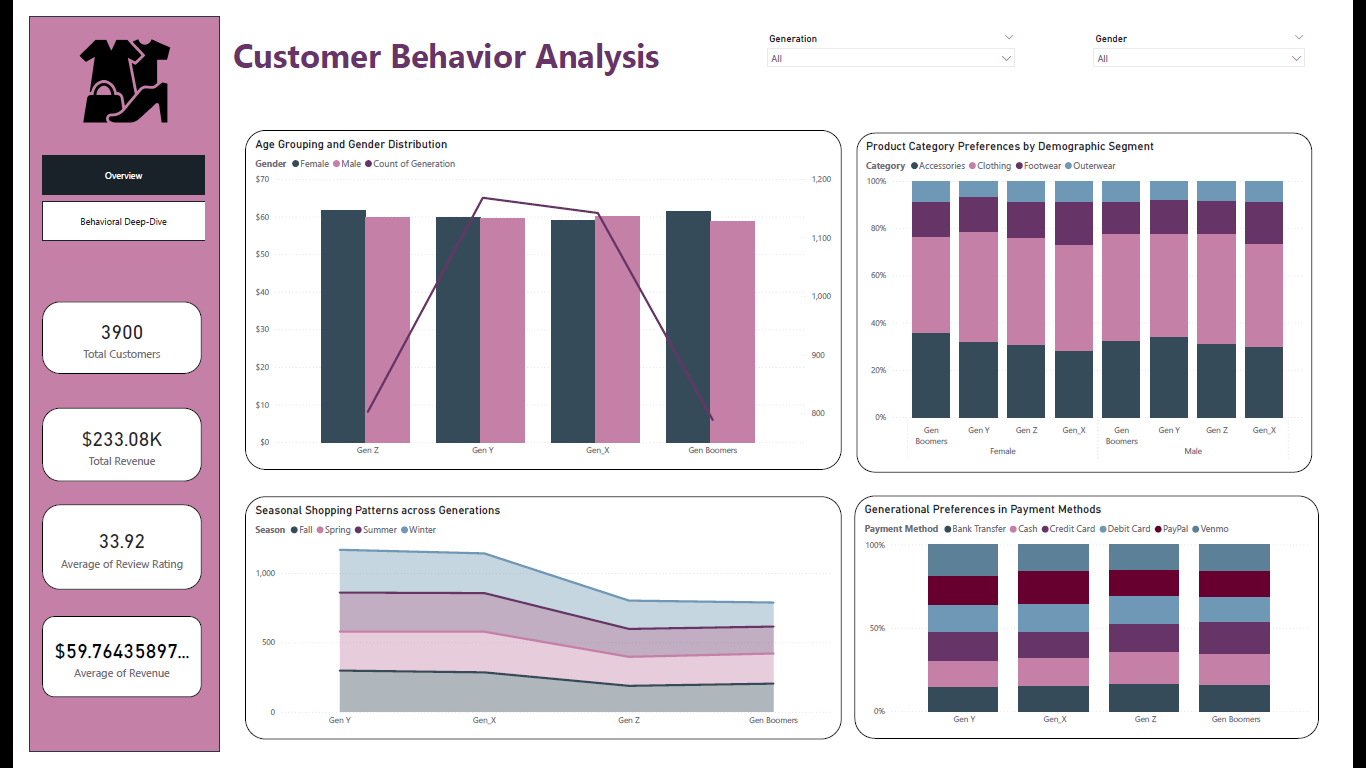

What the dashboard file says about the page in this screenshot:
{"tool":"powerbi","page":{"name":"Overview","canvas":[1920,1080],"ordinal":0},"visuals":[{"type":"lineClusteredColumnComboChart","title":"Age Grouping and Gender Distribution","fields":{"Category":["shopping_behavior_updated.Generation"],"Series":["shopping_behavior_updated.Gender"],"Y":["Avg(shopping_behavior_updated.Purchase Amount (USD))"],"Y2":["CountNonNull(shopping_behavior_updated.Generation)"]},"box":[317,167.4,876.3,498.7],"z":0},{"type":"actionButton","box":[0,0,100,40],"z":1000},{"type":"hundredPercentStackedColumnChart","title":"Generational Preferences in Payment Methods","fields":{"Category":["shopping_behavior_updated.Generation"],"Series":["shopping_behavior_updated.Payment Method"],"Y":["CountNonNull(shopping_behavior_updated.Generation)"]},"box":[1211.8,704.2,682.6,356.4],"z":2000},{"type":"shape","box":[0,0,278.6,1080],"z":3000},{"type":"image","box":[25.9,19.4,226.8,151.2],"z":4000},{"type":"card","fields":{"Values":["CountNonNull(shopping_behavior_updated.Customer ID)"]},"box":[19.4,419,233.3,105.8],"z":5000},{"type":"card","fields":{"Values":["Sum(shopping_behavior_updated.Purchase Amount (USD))"]},"box":[19.4,574.6,233.3,108],"z":7000},{"type":"card","fields":{"Values":["Avg(shopping_behavior_updated.Review Rating)"]},"box":[19.4,717.1,233.3,125.3],"z":8000},{"type":"card","fields":{"Values":["Avg(shopping_behavior_updated.Purchase Amount (USD))"]},"box":[19.4,881.3,233.3,118.8],"z":9000},{"type":"textbox","box":[293.8,19.4,695.5,95],"z":10000},{"type":"slicer","fields":{"Values":["shopping_behavior_updated.Generation"]},"box":[1073.5,19.4,384.5,75.6],"z":11000},{"type":"slicer","fields":{"Values":["shopping_behavior_updated.Gender"]},"box":[1553,19.4,330.5,95],"z":12000},{"type":"hundredPercentStackedColumnChart","title":"Product Category Preferences by Demographic Segment","fields":{"Category":["shopping_behavior_updated.Gender","shopping_behavior_updated.Generation"],"Y":["CountNonNull(shopping_behavior_updated.Item Purchased)"],"Series":["shopping_behavior_updated.Category"]},"box":[1214.7,171,669.7,498.7],"z":13000},{"type":"stackedAreaChart","title":"Seasonal Shopping Patterns across Generations","fields":{"Category":["shopping_behavior_updated.Generation"],"Series":["shopping_behavior_updated.Season"],"Y":["CountNonNull(shopping_behavior_updated.Season)"]},"box":[317,705.3,876.3,356.2],"z":14000},{"type":"pageNavigator","box":[19.4,205.2,239.8,125.3],"z":15000}]}

Visuals, with their boxes in screenshot pixels (x1, y1, x2, y2), scaled from the page's 1920x1080 canvas onto the 1366x768 screenshot:
"Age Grouping and Gender Distribution" lineClusteredColumnComboChart: select_region(226, 119, 849, 474)
actionButton: select_region(0, 0, 71, 28)
"Generational Preferences in Payment Methods" hundredPercentStackedColumnChart: select_region(862, 501, 1348, 754)
shape: select_region(0, 0, 198, 767)
image: select_region(18, 14, 180, 121)
card - CountNonNull(shopping_behavior_updated.Customer ID): select_region(14, 298, 180, 373)
card - Sum(shopping_behavior_updated.Purchase Amount (USD)): select_region(14, 409, 180, 485)
card - Avg(shopping_behavior_updated.Review Rating): select_region(14, 510, 180, 599)
card - Avg(shopping_behavior_updated.Purchase Amount (USD)): select_region(14, 627, 180, 711)
textbox: select_region(209, 14, 704, 81)
slicer - shopping_behavior_updated.Generation: select_region(764, 14, 1037, 68)
slicer - shopping_behavior_updated.Gender: select_region(1105, 14, 1340, 81)
"Product Category Preferences by Demographic Segment" hundredPercentStackedColumnChart: select_region(864, 122, 1341, 476)
"Seasonal Shopping Patterns across Generations" stackedAreaChart: select_region(226, 502, 849, 755)
pageNavigator: select_region(14, 146, 184, 235)
